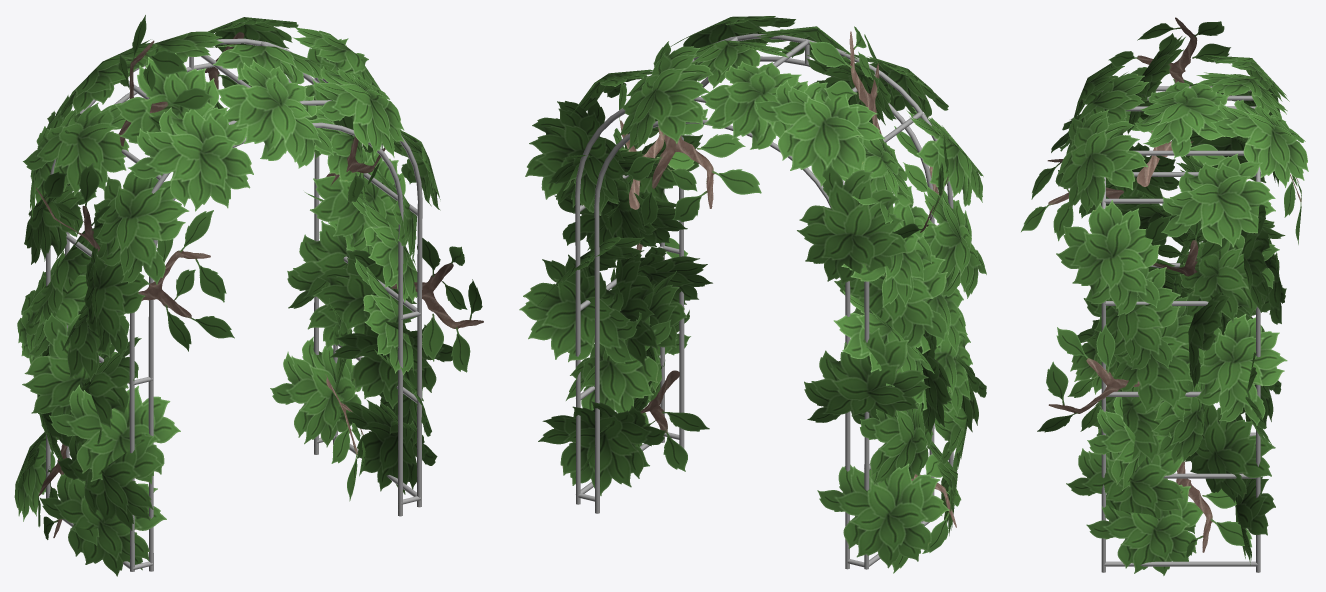
File: archeJardin02.fbx
The picture shows the model from 3 angles, left to right: view 1: azimuth 30°, elevation 25°; view 2: azimuth 150°, elevation 25°; view 3: azimuth 270°, elevation 25°; orthographic projection. The views are drawn at different scales.
Visible parts, largest first — view 1: pCylinder25; view 2: pCylinder25; view 3: pCylinder25.
Boxes of the visible parts, box(x1,y1,x2,y2) form: pCylinder25: box(14, 15, 483, 576); pCylinder25: box(519, 16, 986, 573); pCylinder25: box(1021, 17, 1308, 575).
Size of the model in its own units: 340 by 404 by 231.
